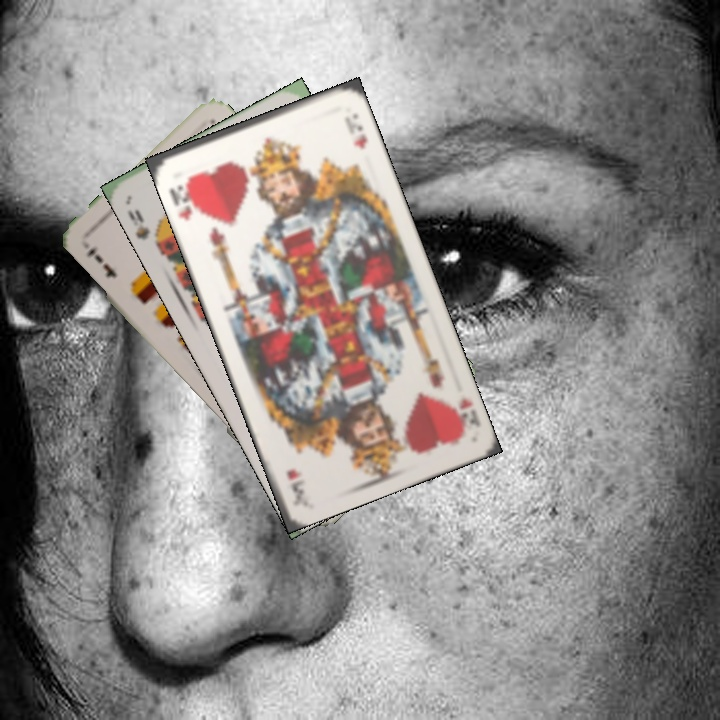E7: (81, 244, 119, 281)
HK: (165, 173, 203, 224), (444, 392, 483, 432)
S9: (123, 205, 168, 251)
